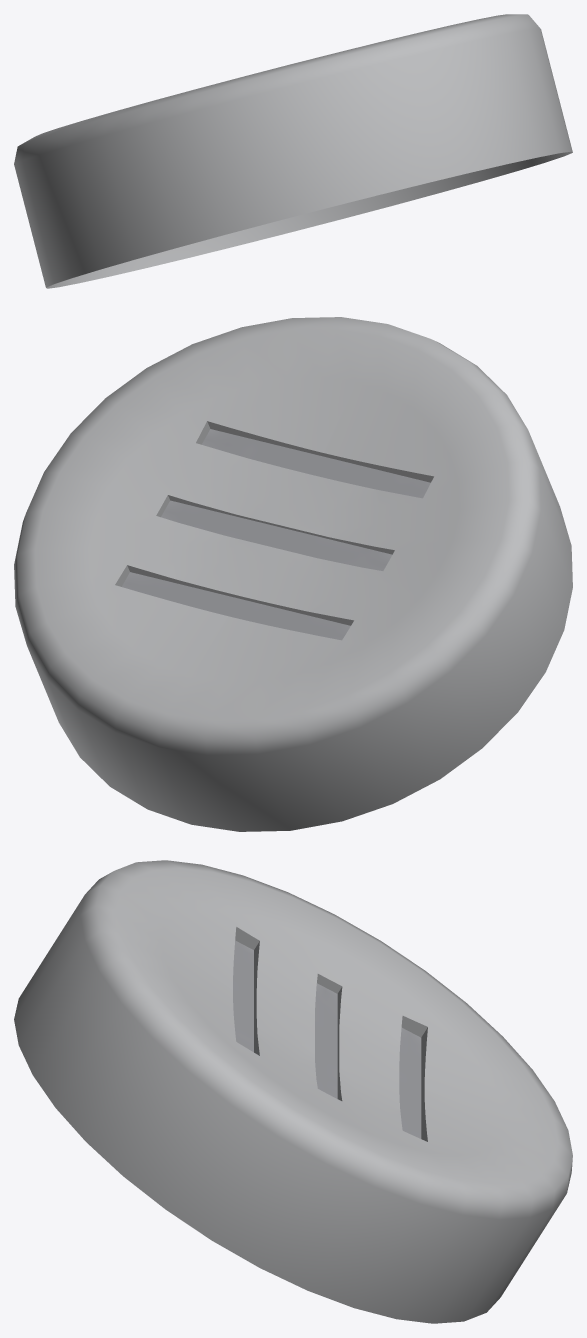
File: button_enter.obj
The picture shows the model from 3 angles, top to bottom: view 1: azimuth 30°, elevation 25°; view 2: azimuth 150°, elevation 25°; view 3: azimuth 270°, elevation 25°; orthographic projection. The views are drawn at different scales.
Parts seen in each view (by area): view 1: button_enter; view 2: button_enter; view 3: button_enter.
Part boxes in pixels (x1=…): button_enter: x1=14, y1=14, x2=572, y2=288; button_enter: x1=14, y1=317, x2=572, y2=831; button_enter: x1=14, y1=860, x2=572, y2=1323.
Bounding box in the file's own units: 0.00999 × 0.0072 × 0.00984.
Materials: 1 (1 with a texture image).
